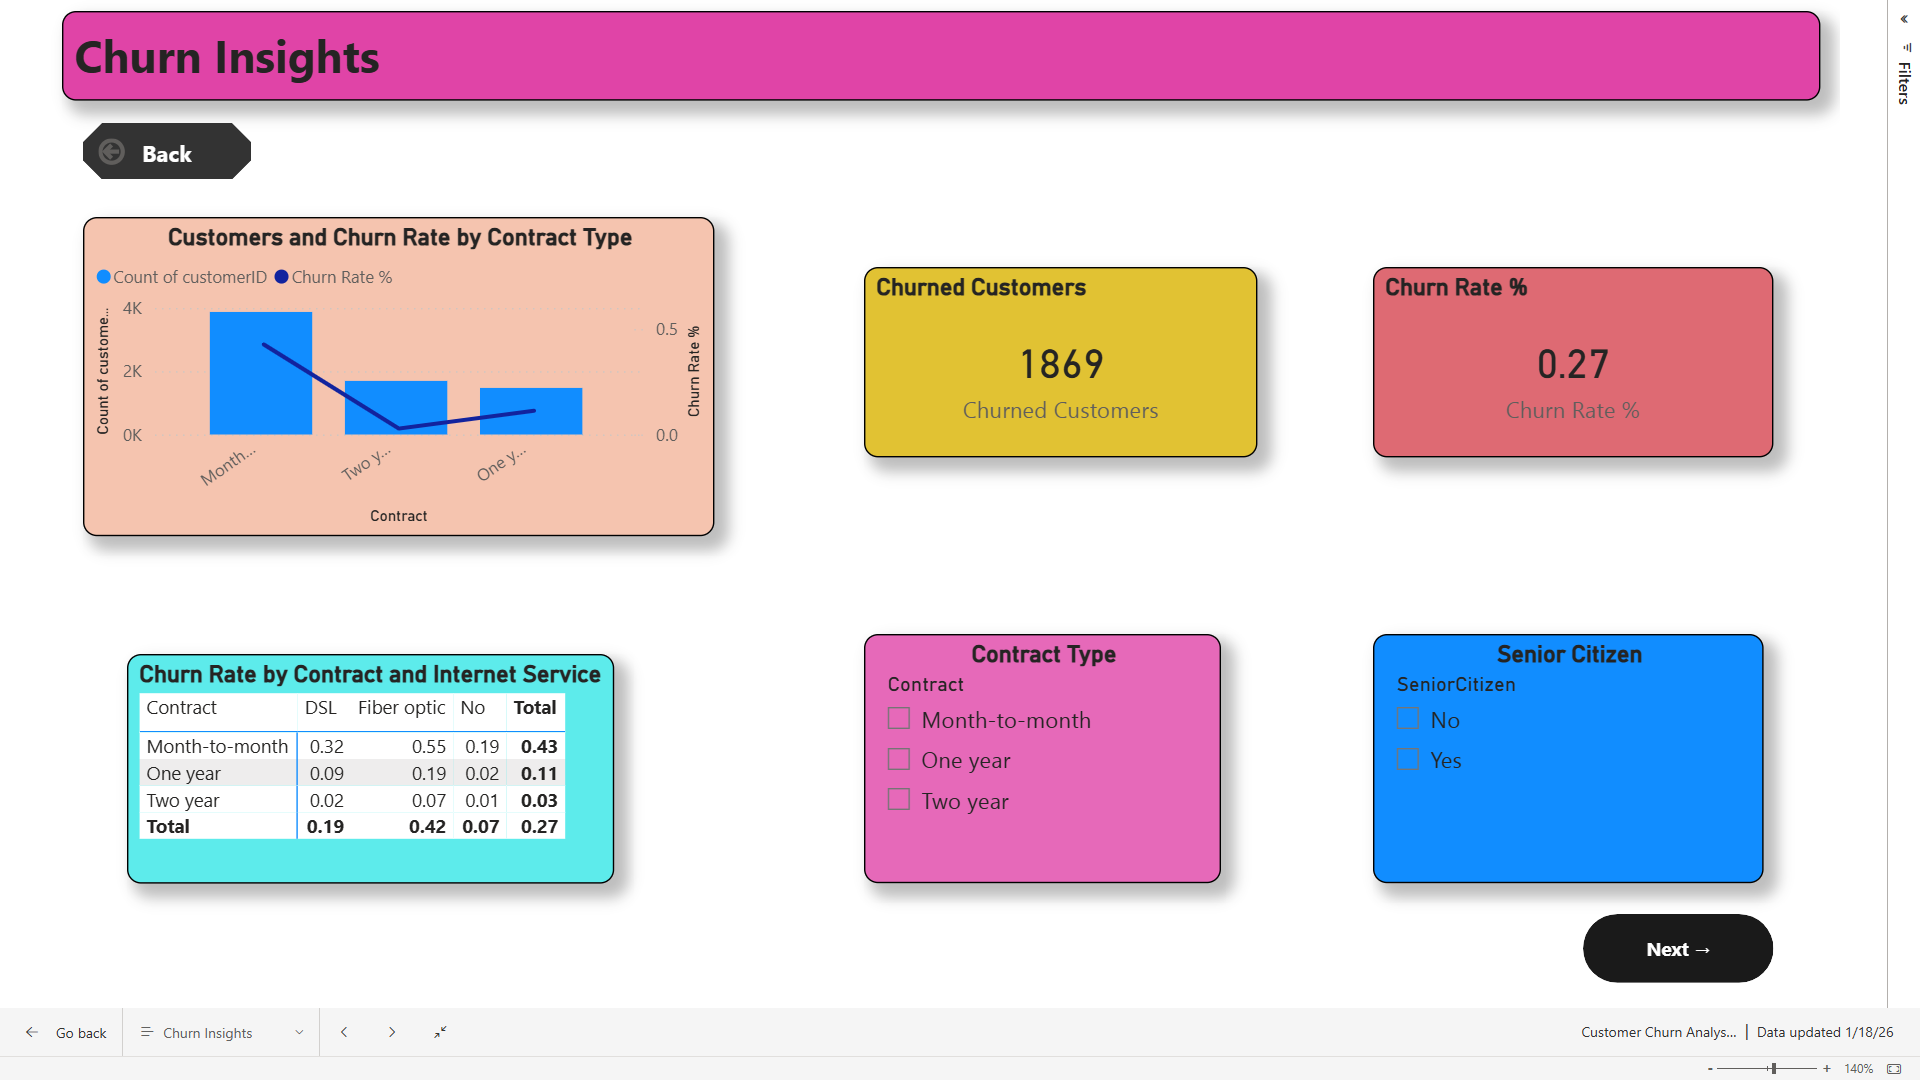

The page's visual inventory and layout, read from the dashboard file:
{"tool":"powerbi","page":{"name":"Churn Insights","canvas":[1280,720],"ordinal":3},"visuals":[{"type":"textbox","box":[9.8,8.1,1256.4,63.6],"z":0},{"type":"actionButton","box":[1096.1,652.8,136.1,49.2],"z":1000},{"type":"actionButton","box":[25.1,87.8,120,40.3],"z":2000},{"type":"lineClusteredColumnComboChart","title":"Customers and Churn Rate by Contract Type","fields":{"Category":["Customer.Contract"],"Y":["CountNonNull(Customer.customerID)"],"Y2":["Customer.Churn Rate %"]},"box":[25.1,154.9,451.3,228.4],"z":3000},{"type":"pivotTable","title":"Churn Rate by Contract and Internet Service","fields":{"Rows":["Customer.Contract"],"Columns":["Customer.InternetService"],"Values":["Customer.Churn Rate %"]},"box":[56.4,467.5,348.4,163.9],"z":4000},{"type":"card","title":"Churned Customers","fields":{"Values":["Customer.Churned Customers"]},"box":[583,190.8,281.2,136.1],"z":5000},{"type":"card","title":"Churn Rate %","fields":{"Values":["Customer.Churn Rate %"]},"box":[946.6,190.8,285.7,136.1],"z":6000},{"type":"slicer","title":"Contract Type","fields":{"Values":["Customer.Contract"]},"box":[583,453.1,255.2,178.2],"z":7000},{"type":"slicer","title":"Senior Citizen","fields":{"Values":["Customer.SeniorCitizen"]},"box":[946.6,453.1,279.4,178.2],"z":8000}]}

Visuals, with their boxes on the page's 1280x720 design canvas (x1, y1, x2, y2). These are canvas units, not pixel positions in the 1920x1080 screenshot, which may show the page scaled, cropped or inside an application window:
textbox: {"left": 10, "top": 8, "right": 1266, "bottom": 72}
actionButton: {"left": 1096, "top": 653, "right": 1232, "bottom": 702}
actionButton: {"left": 25, "top": 88, "right": 145, "bottom": 128}
"Customers and Churn Rate by Contract Type" lineClusteredColumnComboChart: {"left": 25, "top": 155, "right": 476, "bottom": 383}
"Churn Rate by Contract and Internet Service" pivotTable: {"left": 56, "top": 468, "right": 405, "bottom": 631}
"Churned Customers" card: {"left": 583, "top": 191, "right": 864, "bottom": 327}
"Churn Rate %" card: {"left": 947, "top": 191, "right": 1232, "bottom": 327}
"Contract Type" slicer: {"left": 583, "top": 453, "right": 838, "bottom": 631}
"Senior Citizen" slicer: {"left": 947, "top": 453, "right": 1226, "bottom": 631}
